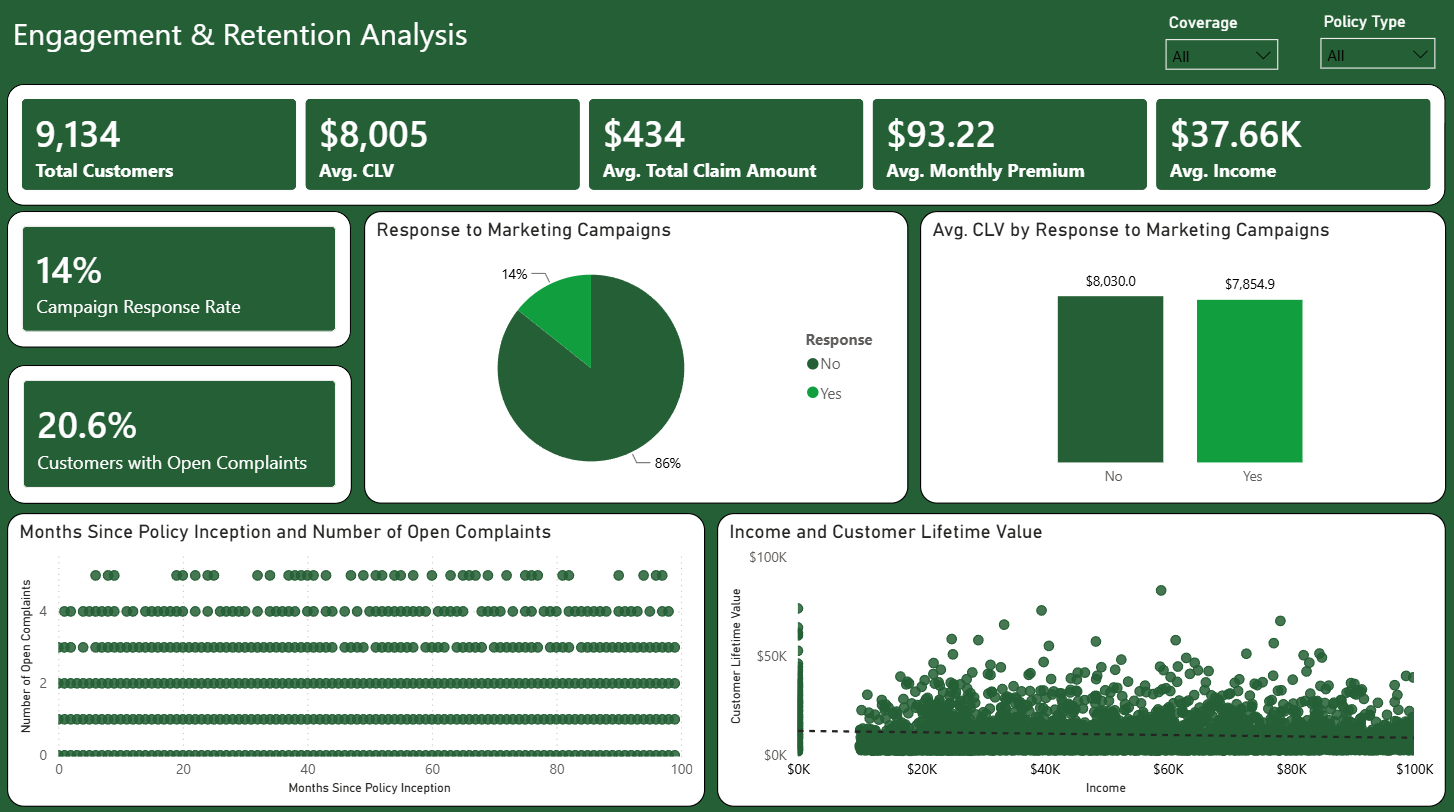

This screenshot's page, from the dashboard's own definition file:
{"tool":"powerbi","page":{"name":"Engagement and Retention Analysis","canvas":[1280,720],"ordinal":2},"visuals":[{"type":"pieChart","title":"Response to Marketing Campaigns","fields":{"Category":["Policy_Data.Response"],"Y":["KPI.Total Customers"]},"box":[321.9,188.7,477.6,256.8],"z":4000},{"type":"clusteredColumnChart","title":"Avg. CLV by Response to Marketing Campaigns","fields":{"Category":["Policy_Data.Response"],"Y":["KPI.Average. CLV"]},"box":[810.2,188.7,462,256.8],"z":4001},{"type":"scatterChart","fields":{"X":["Policy_Data.Months Since Policy Inception"],"Y":["Policy_Data.Number of Open Complaints"]},"box":[8.8,454.2,612.8,257.8],"z":4003},{"type":"scatterChart","fields":{"X":["Policy_Data.Income"],"Y":["Policy_Data.Customer Lifetime Value"]},"box":[632.2,454.2,640,257.8],"z":4004},{"type":"cardVisual","fields":{"Data":["KPI.Customers with Open Complaints"]},"box":[9.7,323.9,301.5,121.6],"z":4005},{"type":"cardVisual","fields":{"Data":["KPI.Campaign Response Rate"]},"box":[8.8,188.7,302.5,119.6],"z":4006},{"type":"cardVisual","fields":{"Data":["KPI.Total Customers","KPI.Average. CLV","KPI.Avg. Total Claim Amount","KPI.Avg. Monthly Premium","KPI.Avg. Income"]},"box":[8.8,76.8,1263.5,107],"z":4007},{"type":"textbox","box":[8.8,8.8,521.3,49.6],"z":4008},{"type":"slicer","fields":{"Values":["Policy_Data.Coverage"]},"box":[1015.4,8.8,120.6,68.1],"z":4009},{"type":"slicer","fields":{"Values":["Policy_Data.Policy Type"]},"box":[1151.6,8.8,120.6,68.1],"z":4010}]}

Visuals, with their boxes in screenshot pixels (x1, y1, x2, y2), scaled from the page's 1280x720 canvas onto the 1454x812 screenshot:
"Response to Marketing Campaigns" pieChart: pyautogui.locateOnScreen(366, 213, 908, 502)
"Avg. CLV by Response to Marketing Campaigns" clusteredColumnChart: pyautogui.locateOnScreen(920, 213, 1445, 502)
scatterChart - Policy_Data.Months Since Policy Inception x Policy_Data.Number of Open Complaints: pyautogui.locateOnScreen(10, 512, 706, 803)
scatterChart - Policy_Data.Income x Policy_Data.Customer Lifetime Value: pyautogui.locateOnScreen(718, 512, 1445, 803)
cardVisual - KPI.Customers with Open Complaints: pyautogui.locateOnScreen(11, 365, 354, 502)
cardVisual - KPI.Campaign Response Rate: pyautogui.locateOnScreen(10, 213, 354, 348)
cardVisual - KPI.Total Customers x KPI.Average. CLV: pyautogui.locateOnScreen(10, 87, 1445, 207)
textbox: pyautogui.locateOnScreen(10, 10, 602, 66)
slicer - Policy_Data.Coverage: pyautogui.locateOnScreen(1153, 10, 1290, 87)
slicer - Policy_Data.Policy Type: pyautogui.locateOnScreen(1308, 10, 1445, 87)
